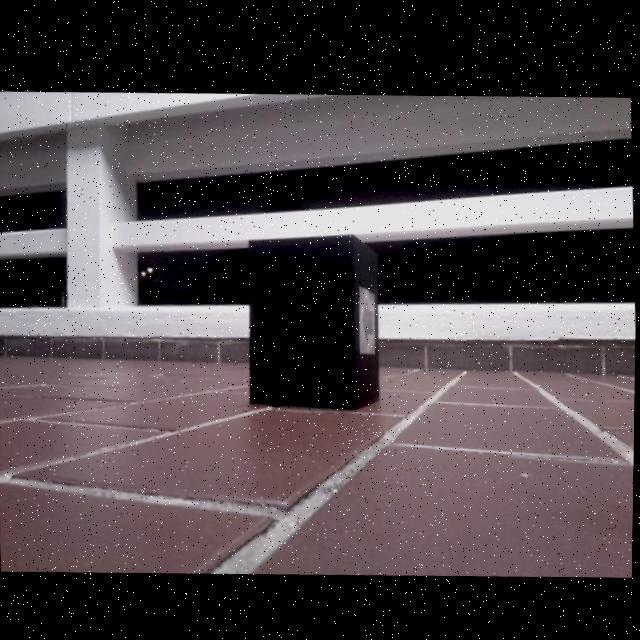LEFT: (362, 295, 374, 342)
